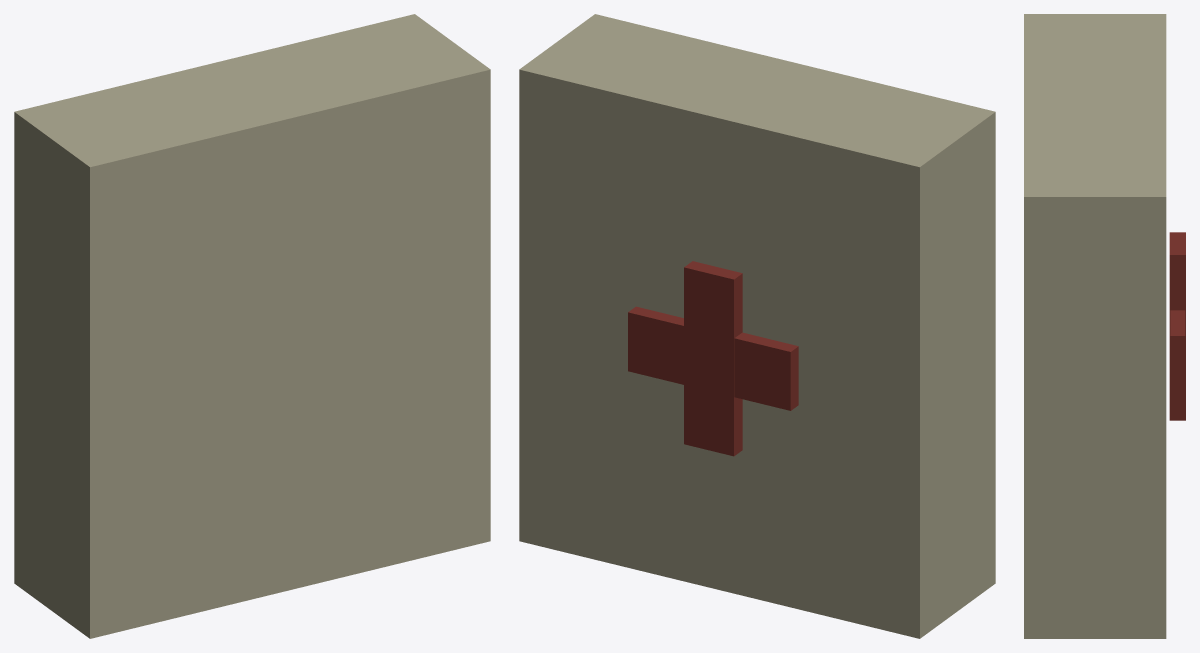
The model's file is medicine_cabinet.glb.
The picture shows the model from 3 angles, left to right: view 1: azimuth 30°, elevation 25°; view 2: azimuth 150°, elevation 25°; view 3: azimuth 270°, elevation 25°; orthographic projection. The views are drawn at different scales.
Visible parts, largest first — view 1: medicine_cabinet; view 2: medicine_cabinet; view 3: medicine_cabinet.
Boxes of the visible parts, x1=… form: medicine_cabinet: x1=14, y1=14, x2=490, y2=638; medicine_cabinet: x1=519, y1=14, x2=995, y2=638; medicine_cabinet: x1=1024, y1=14, x2=1185, y2=638.
Bounding box in the file's own units: 0.64 × 0.72 × 0.239.
